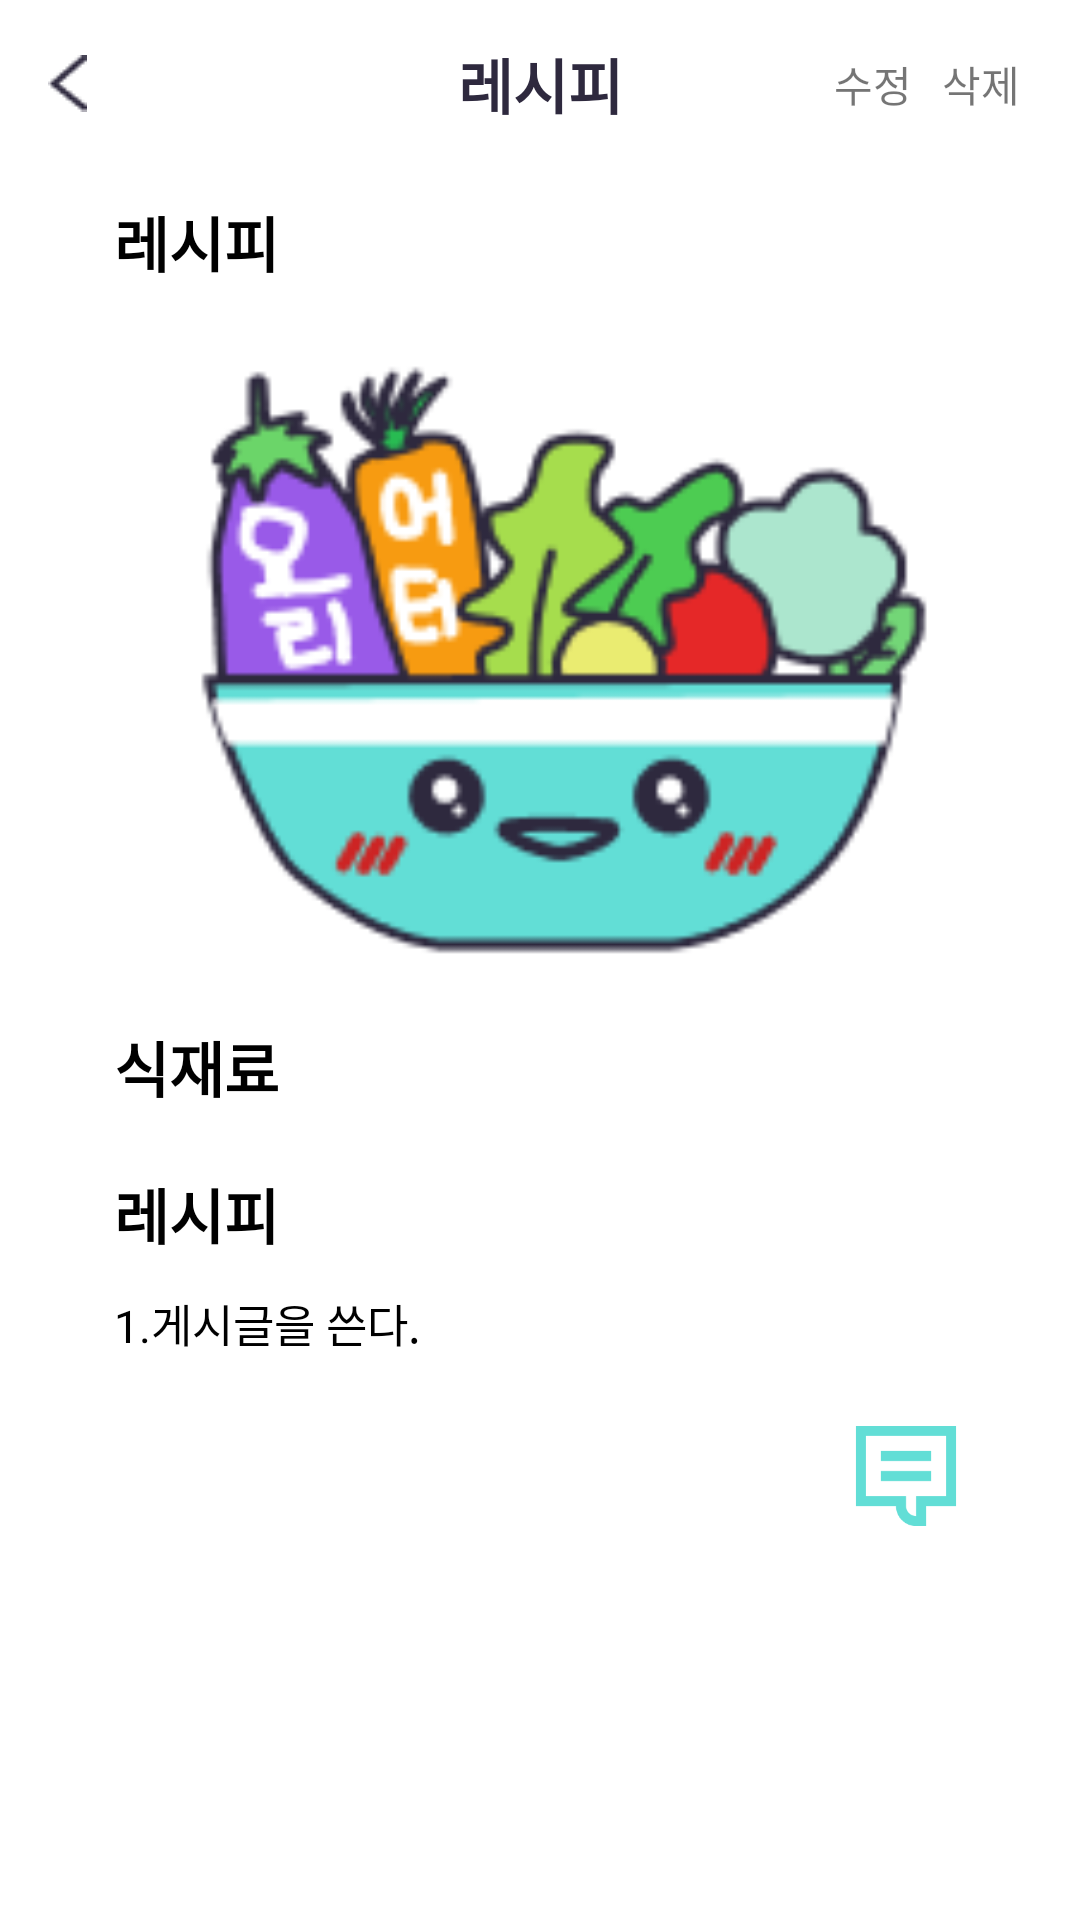

Point at icon controls on the screen. Image size 1080 × 1920, points as (x=x, y=y).
arrow left: (x=67, y=83)
comment: (x=906, y=1476)
